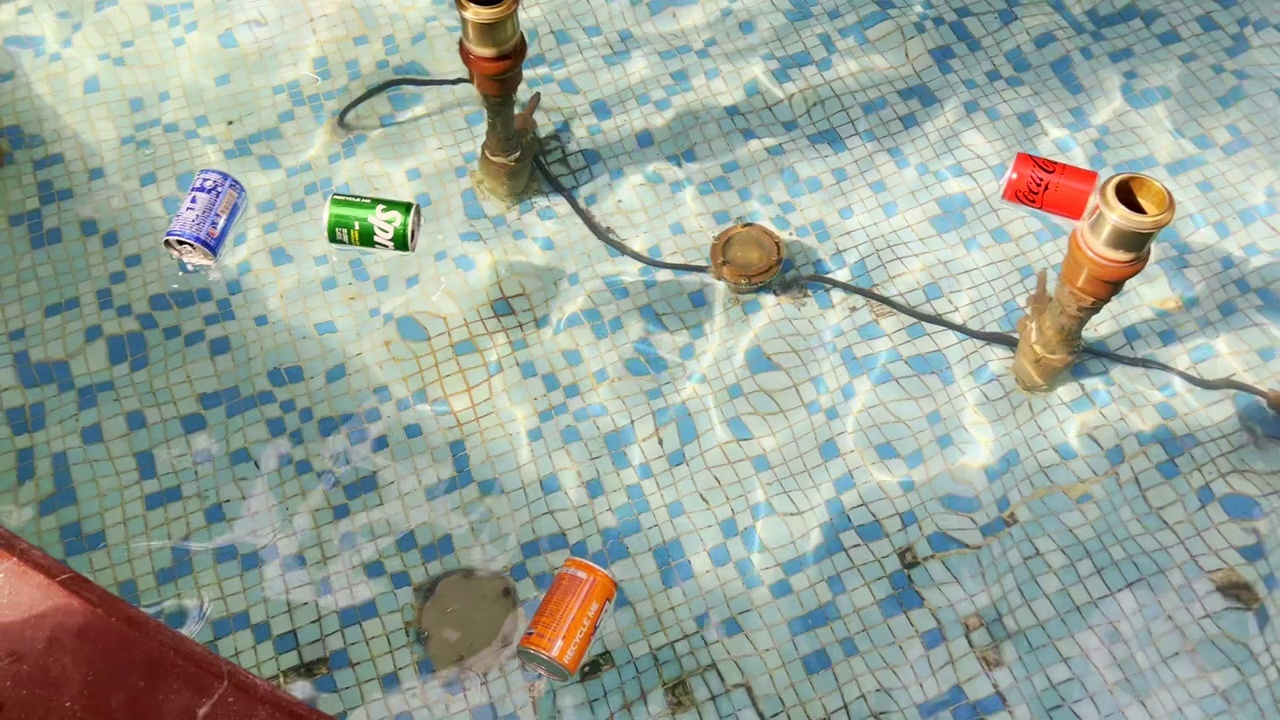debris: (511, 546, 620, 688), (146, 156, 252, 270), (1001, 136, 1103, 234), (312, 180, 426, 264)
